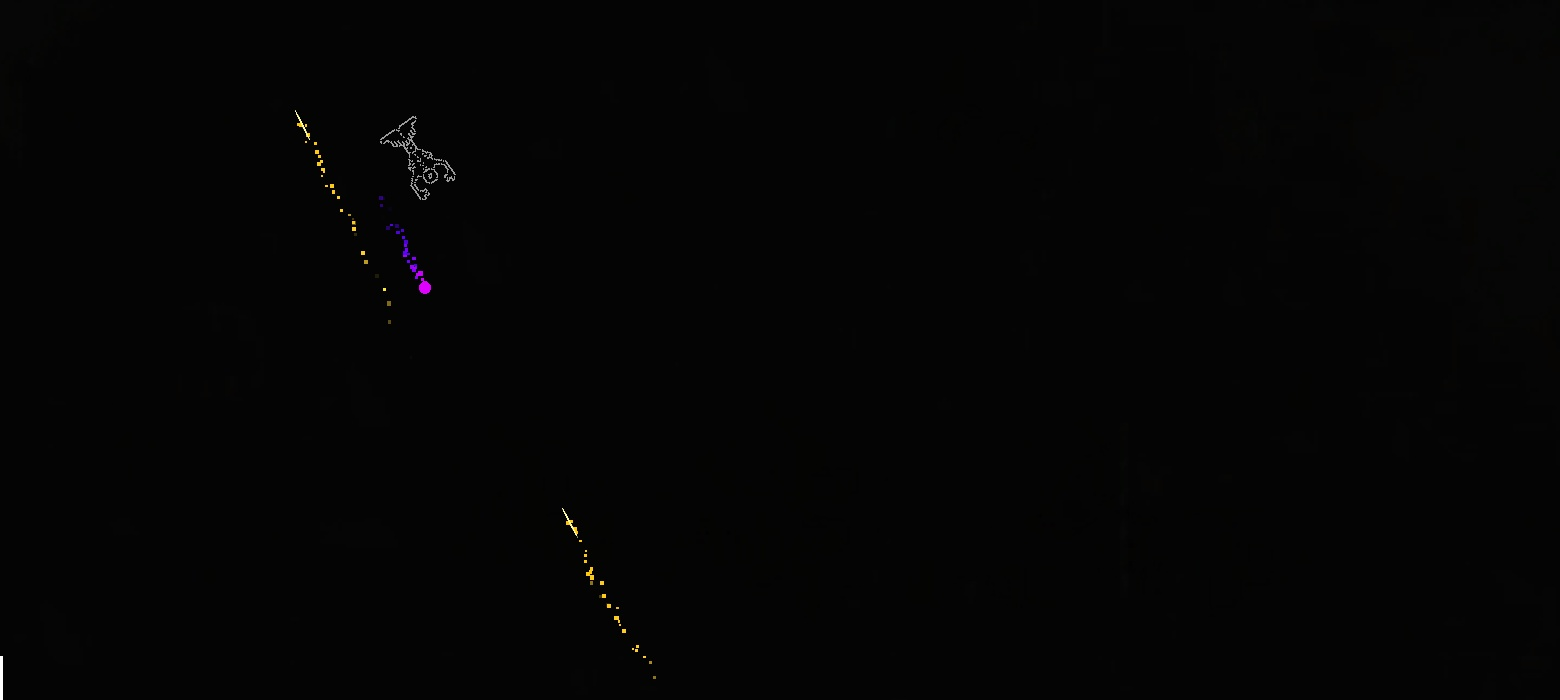enemy: (380, 115, 456, 201)
